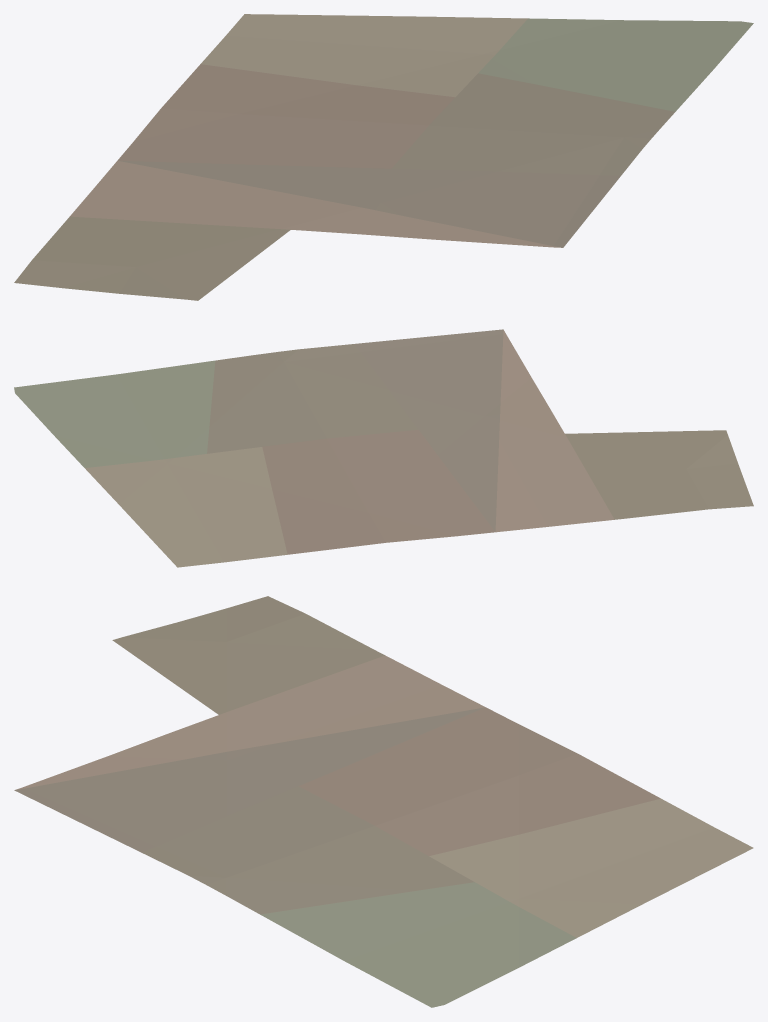
The model's file is farm_14_12_soil.glb.
The picture shows the model from 3 angles, top to bottom: view 1: azimuth 30°, elevation 25°; view 2: azimuth 150°, elevation 25°; view 3: azimuth 270°, elevation 25°; orthographic projection. The views are drawn at different scales.
Visible parts, largest first — view 1: geometry_0; view 2: geometry_0; view 3: geometry_0.
Part boxes in pixels (box(x1,y1,x2,y2)): geometry_0: box(14, 14, 753, 300); geometry_0: box(14, 329, 753, 567); geometry_0: box(14, 596, 753, 1007).
Size of the model in its own units: 268 by 11.58 by 203.
